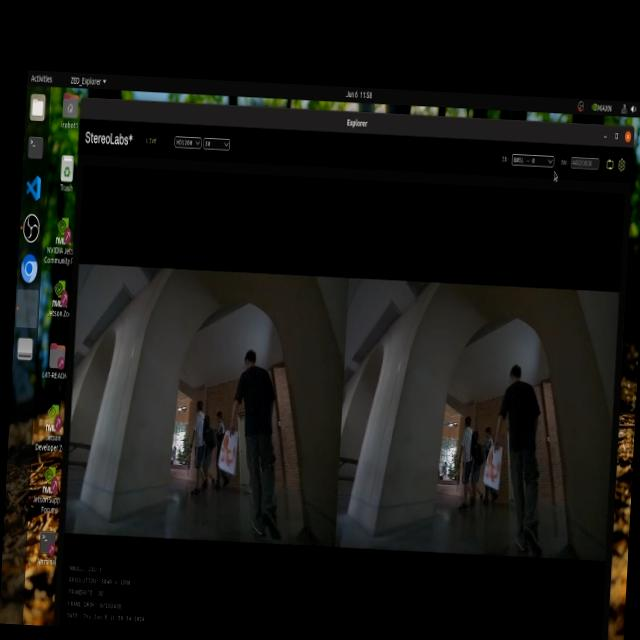red: (482, 448, 504, 496), (216, 431, 233, 465)
